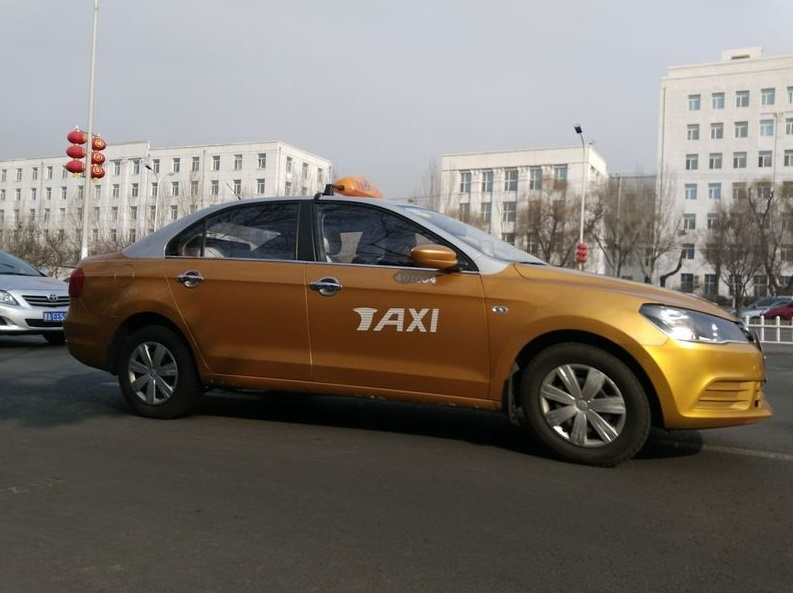taxi: (67, 168, 736, 453)
